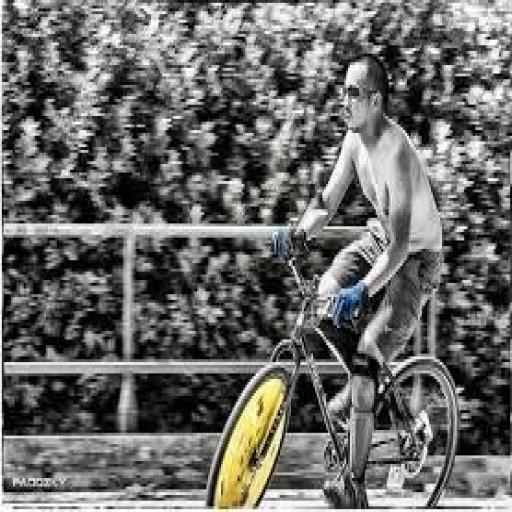cycling: (269, 51, 447, 509)
